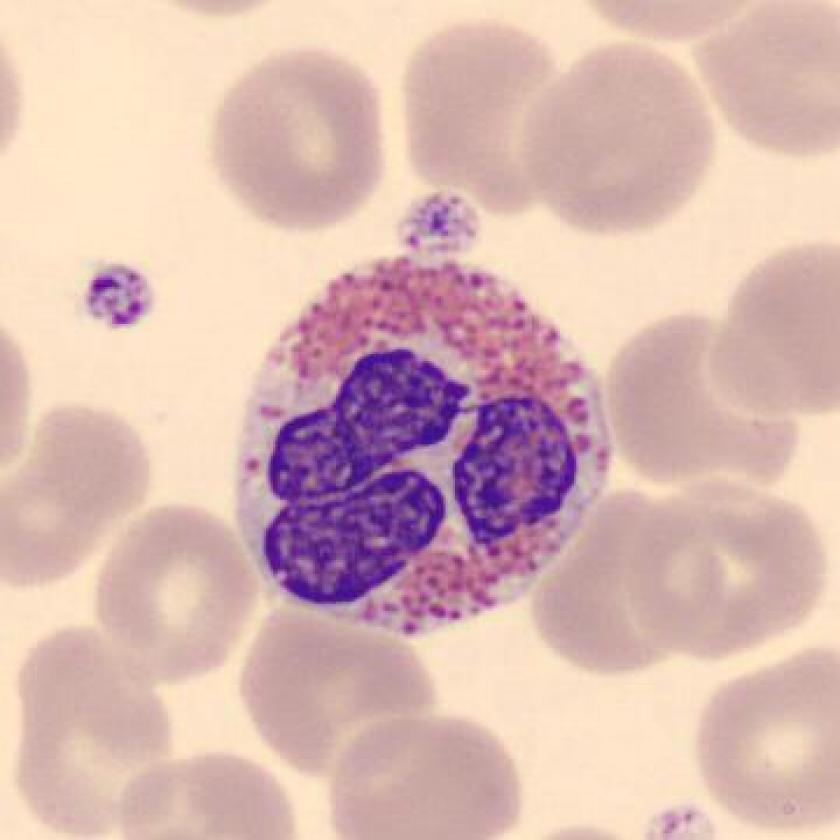eosinophil: (220, 253, 622, 649)
